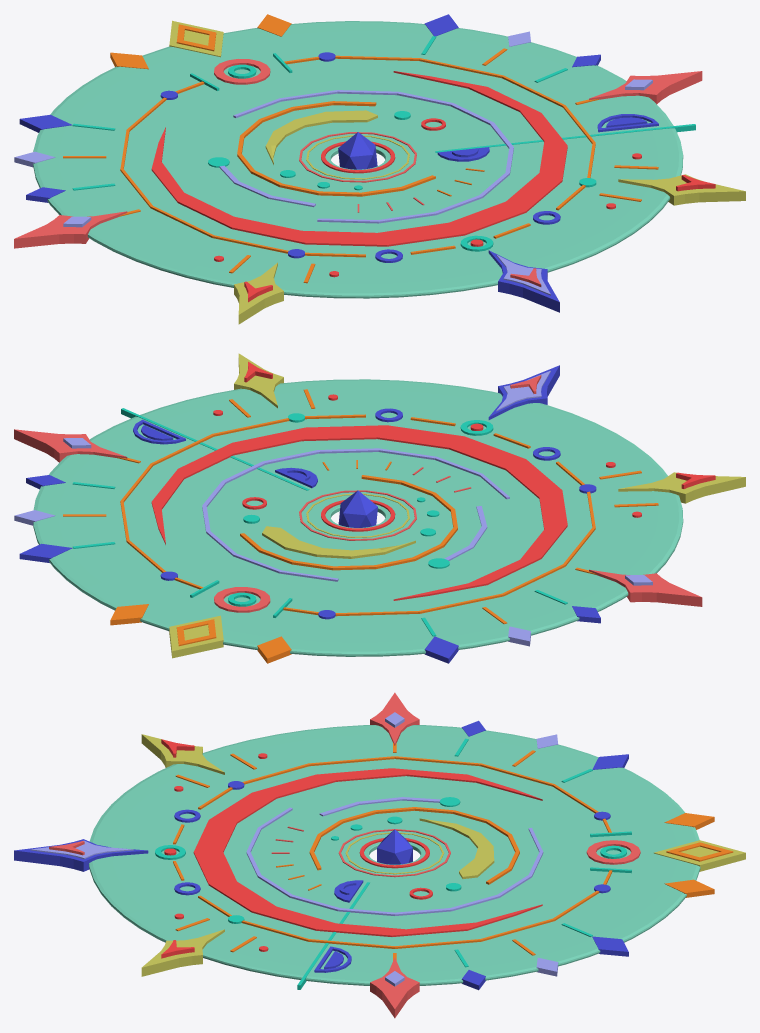
File: flat star plate.fbx
The picture shows the model from 3 angles, top to bottom: view 1: azimuth 30°, elevation 25°; view 2: azimuth 150°, elevation 25°; view 3: azimuth 270°, elevation 25°; orthographic projection. The views are drawn at different scales.
Parts seen in each view (by area): view 1: center_flat; view 2: center_flat; view 3: center_flat.
Boxes of the visible parts, left/top/right/bottom form: center_flat: left=14, top=14, right=745, bottom=324; center_flat: left=14, top=353, right=745, bottom=663; center_flat: left=14, top=692, right=745, bottom=1018.
Size of the model in its own units: 243 by 18.75 by 237.
